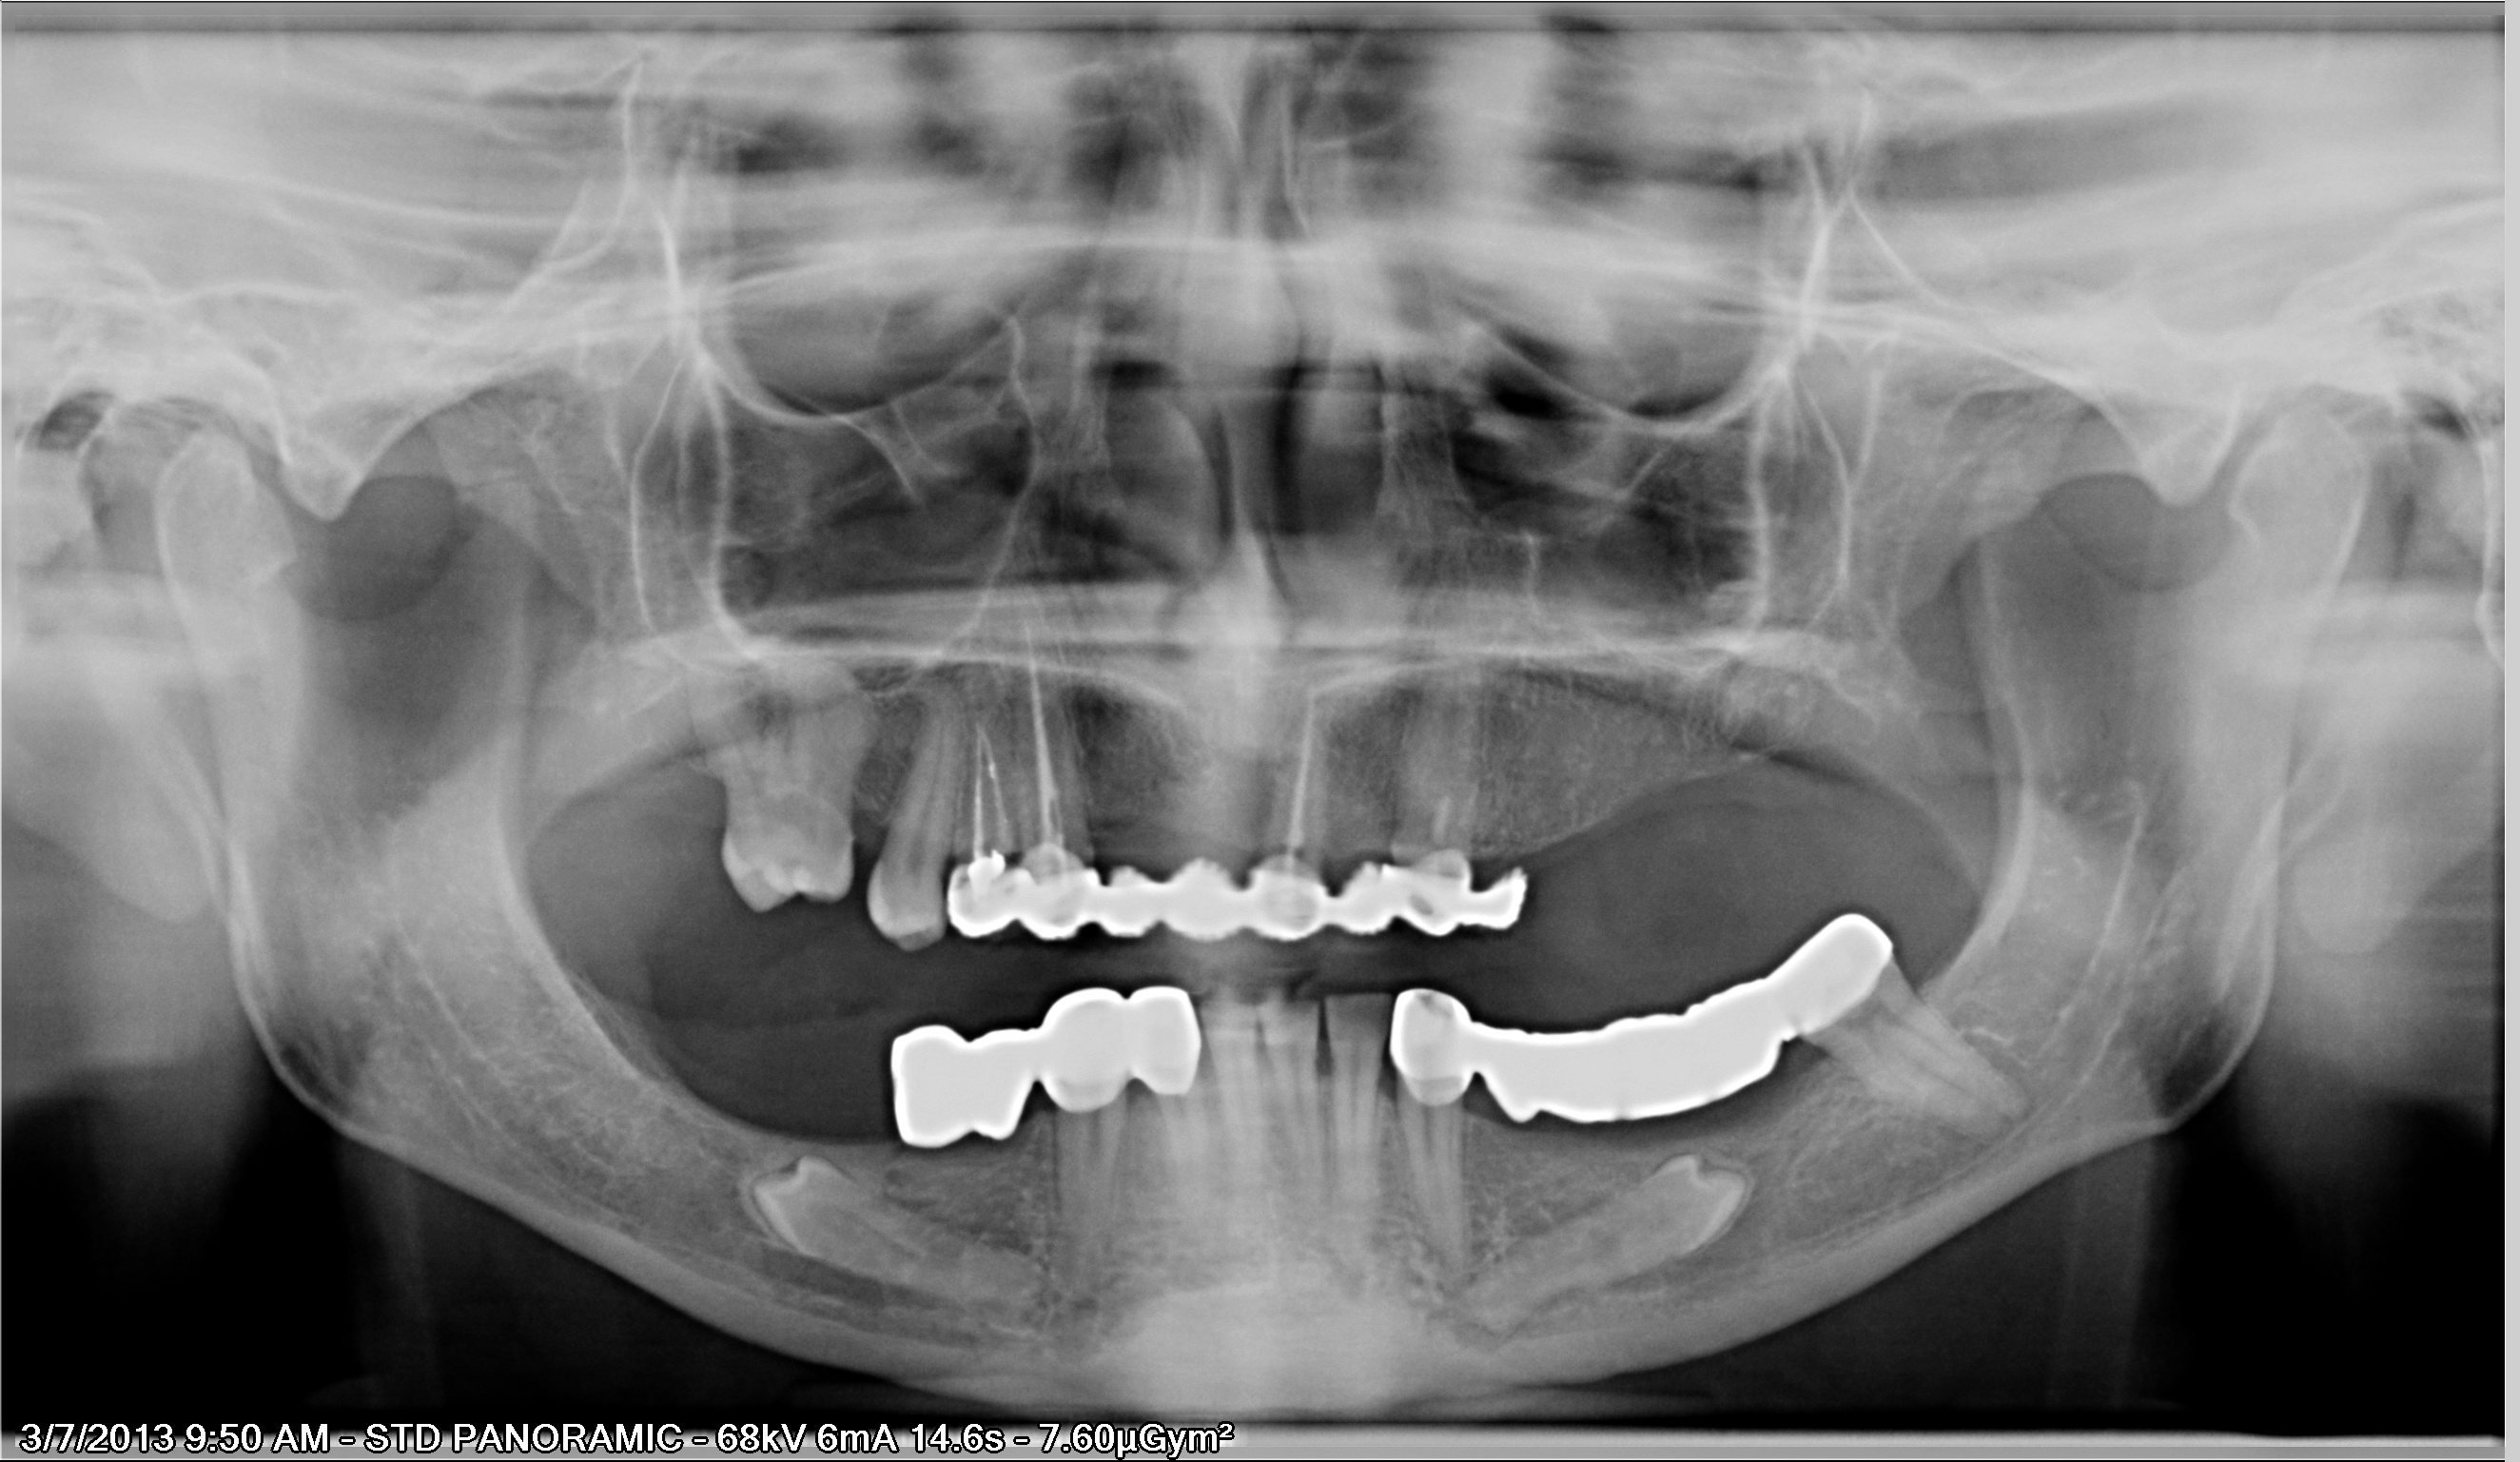BON: (1363, 1058, 1406, 1121)
CAR: (1363, 818, 1431, 879), (936, 834, 985, 886), (1079, 832, 1107, 889)
END: (1237, 672, 1345, 860), (1011, 597, 1067, 853), (952, 710, 1029, 872)
IMT: (1425, 1121, 1789, 1345), (726, 1130, 1069, 1347)
PRR: (1391, 891, 1923, 1143), (917, 822, 1582, 982), (848, 976, 1216, 1154)
